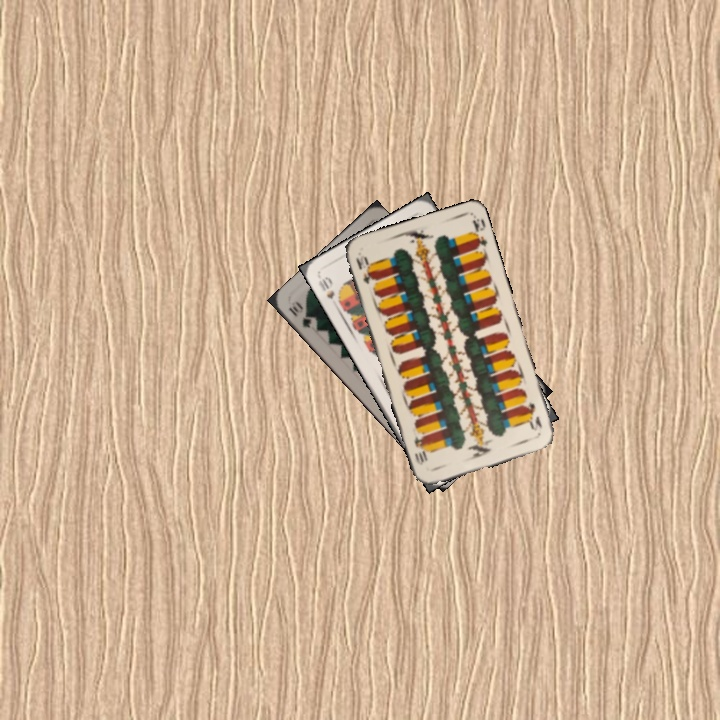E10: (351, 251, 376, 287), (522, 398, 545, 433)
G10: (284, 297, 315, 331)
S10: (314, 272, 337, 302)
